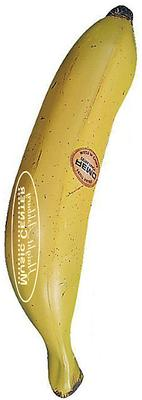banana: (0, 0, 142, 400)
